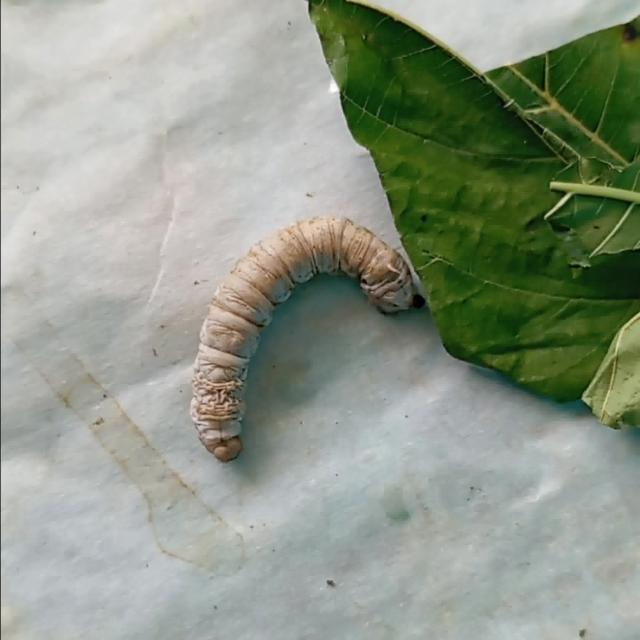Grasserie: (182, 191, 424, 473)
